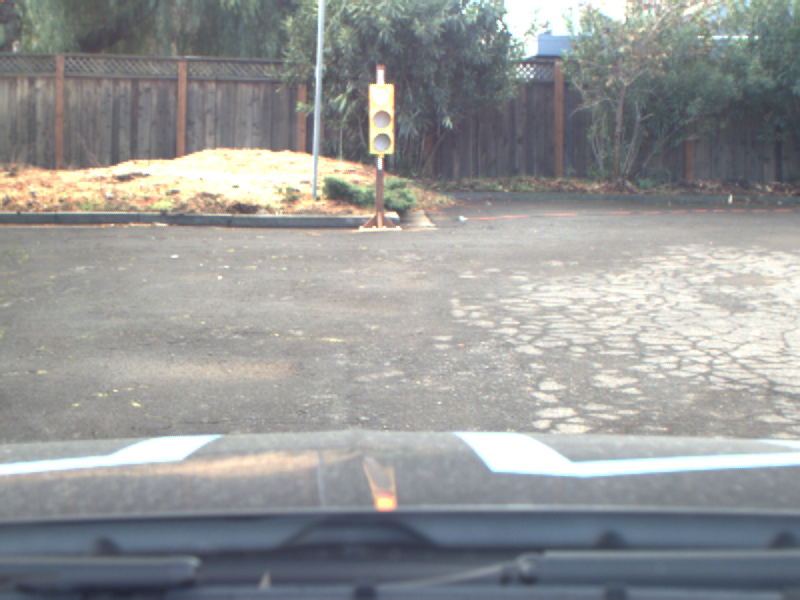Red: (368, 82, 397, 154)
